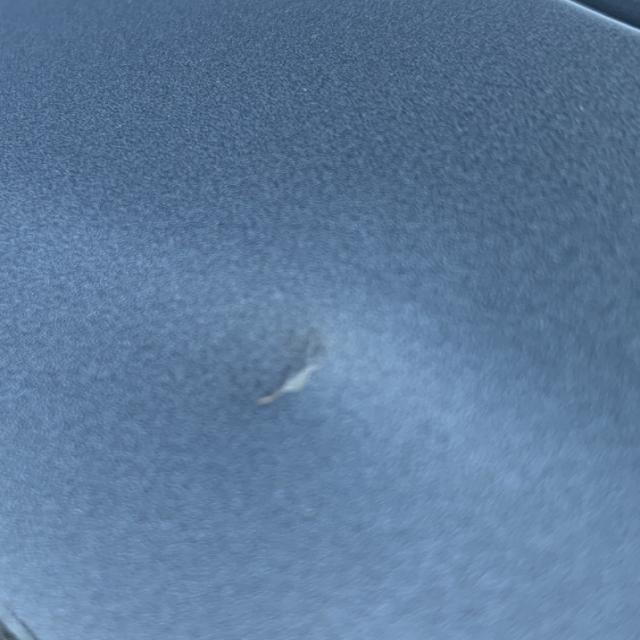dents: (254, 315, 406, 430)
